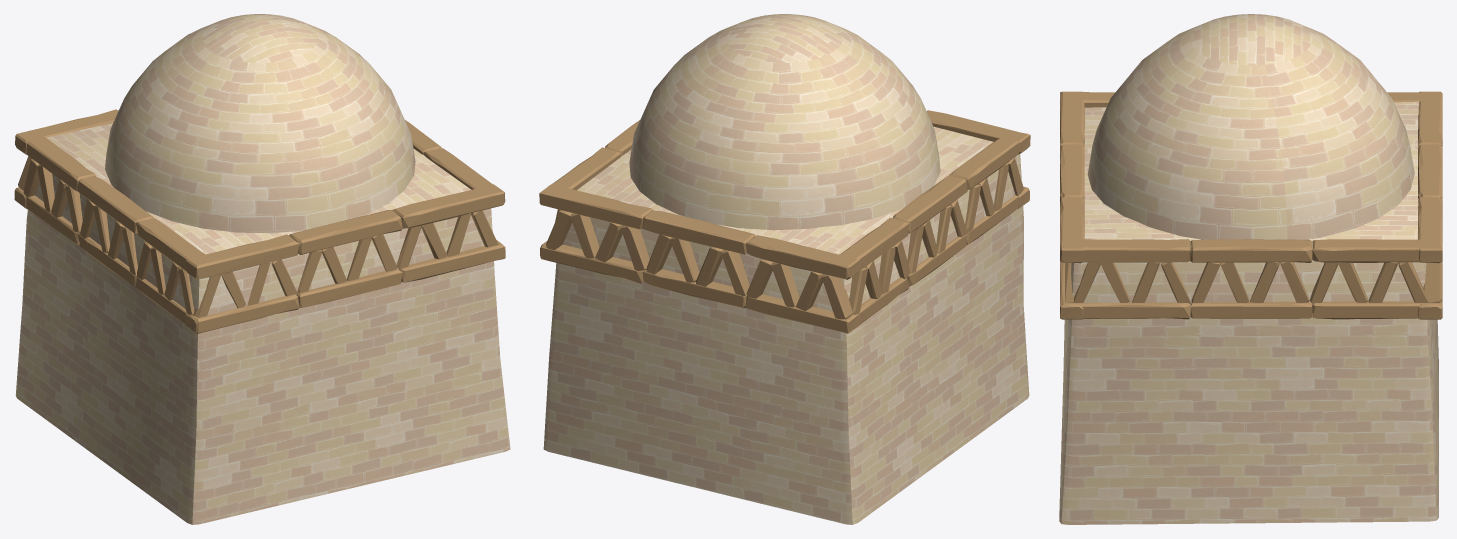
Rendered from SM_rooftop_dome.fbx.
3 views of the same model, side by side, from view 1: azimuth 30°, elevation 25°; view 2: azimuth 150°, elevation 25°; view 3: azimuth 270°, elevation 25° (orthographic). The views are drawn at different scales.
Parts seen in each view (by area): view 1: Box581; view 2: Box581; view 3: Box581.
Part boxes in pixels (bbox=[...]): Box581: bbox=[14, 14, 510, 524]; Box581: bbox=[539, 14, 1030, 524]; Box581: bbox=[1059, 14, 1442, 524].
Bounding box in the file's own units: 193 × 230 × 191.
